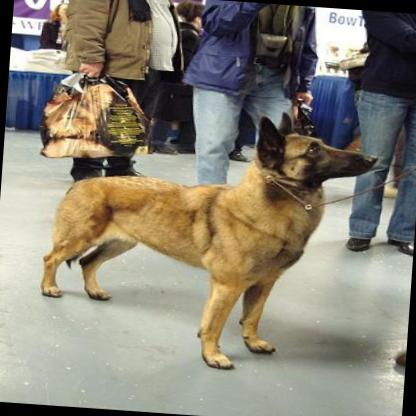malinois: (34, 93, 376, 377)
